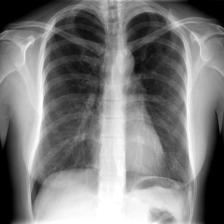normal: (26, 3, 196, 218)
